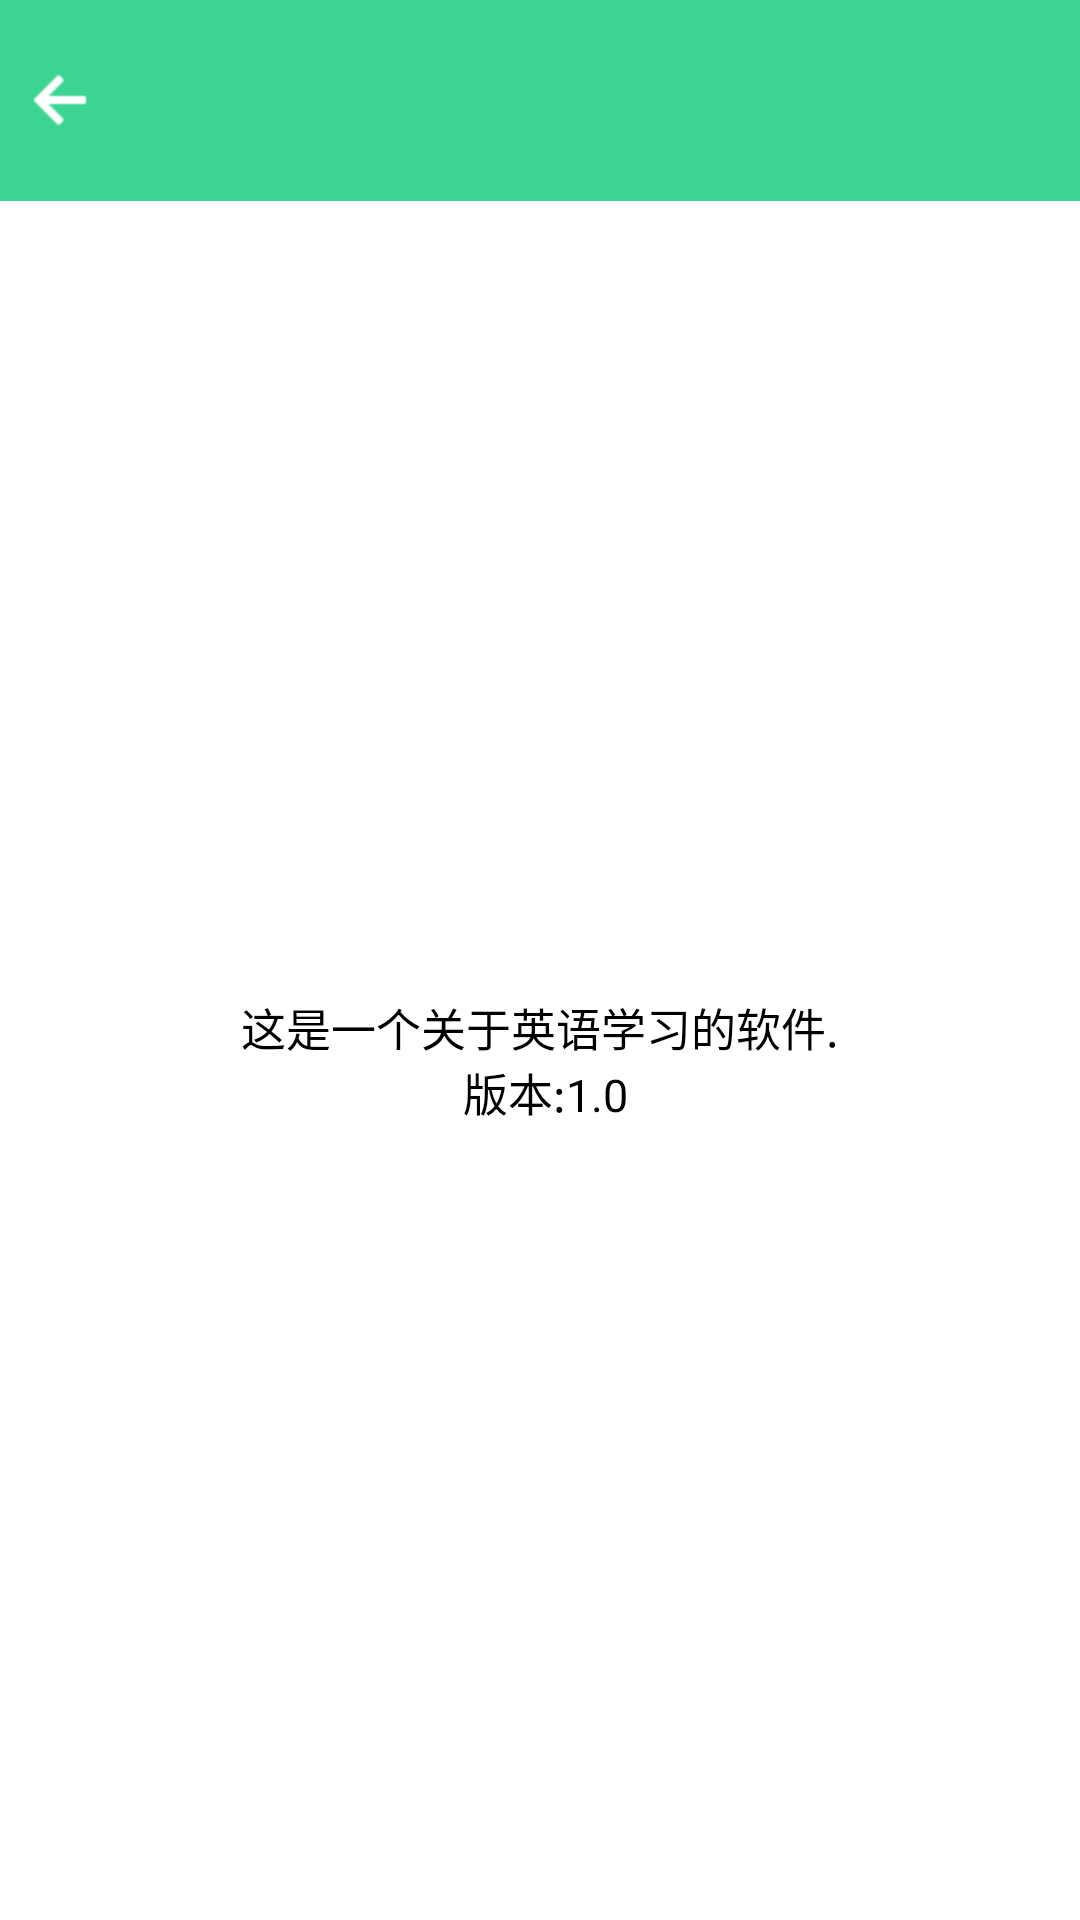

Point at icon controls on the screen. Image size 1080×1920, points as (x=x, y=y).
page main back: (x=60, y=100)
